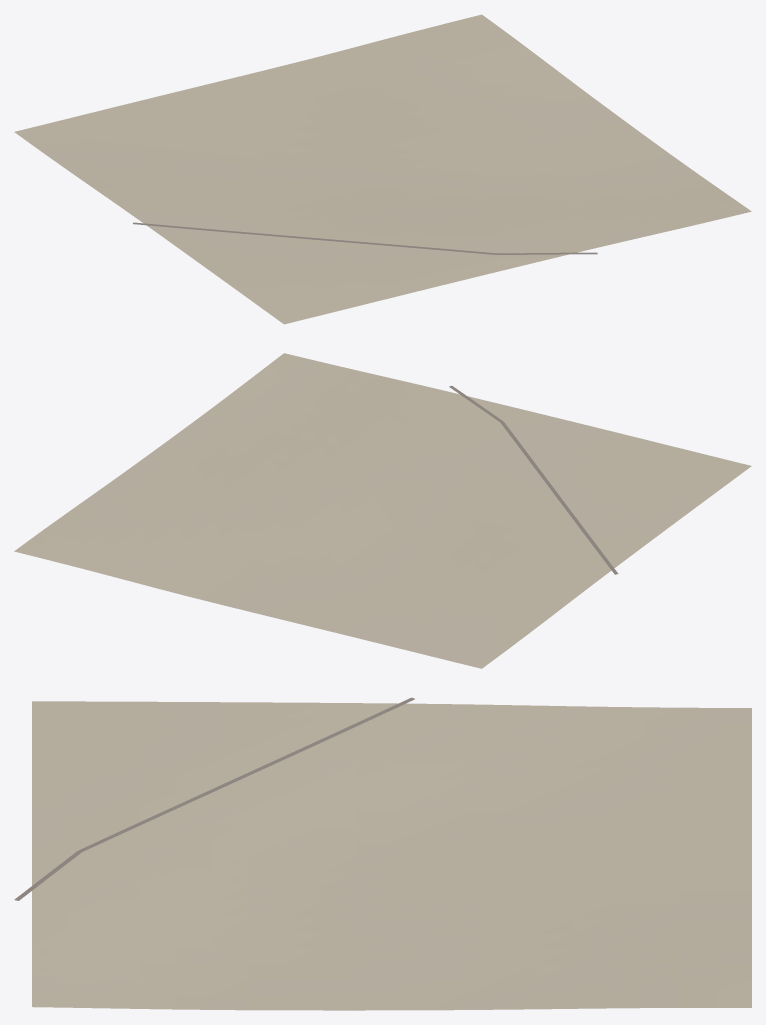
Rendered from bolak_18_-9.glb.
The picture shows the model from 3 angles, top to bottom: view 1: azimuth 30°, elevation 25°; view 2: azimuth 150°, elevation 25°; view 3: azimuth 270°, elevation 25°; orthographic projection. The views are drawn at different scales.
Visible parts, largest first — view 1: Yer_Tuproq-col, Temir_Yol; view 2: Yer_Tuproq-col, Temir_Yol; view 3: Yer_Tuproq-col, Temir_Yol.
Part boxes in pixels (x1,y1,x2,y2): Yer_Tuproq-col: (14,14,751,324); Temir_Yol: (133,222,597,254); Yer_Tuproq-col: (14,353,751,668); Temir_Yol: (449,386,618,574); Yer_Tuproq-col: (32,701,751,1010); Temir_Yol: (14,697,414,900).
Size of the model in its own units: 408 by 4.68 by 410.
